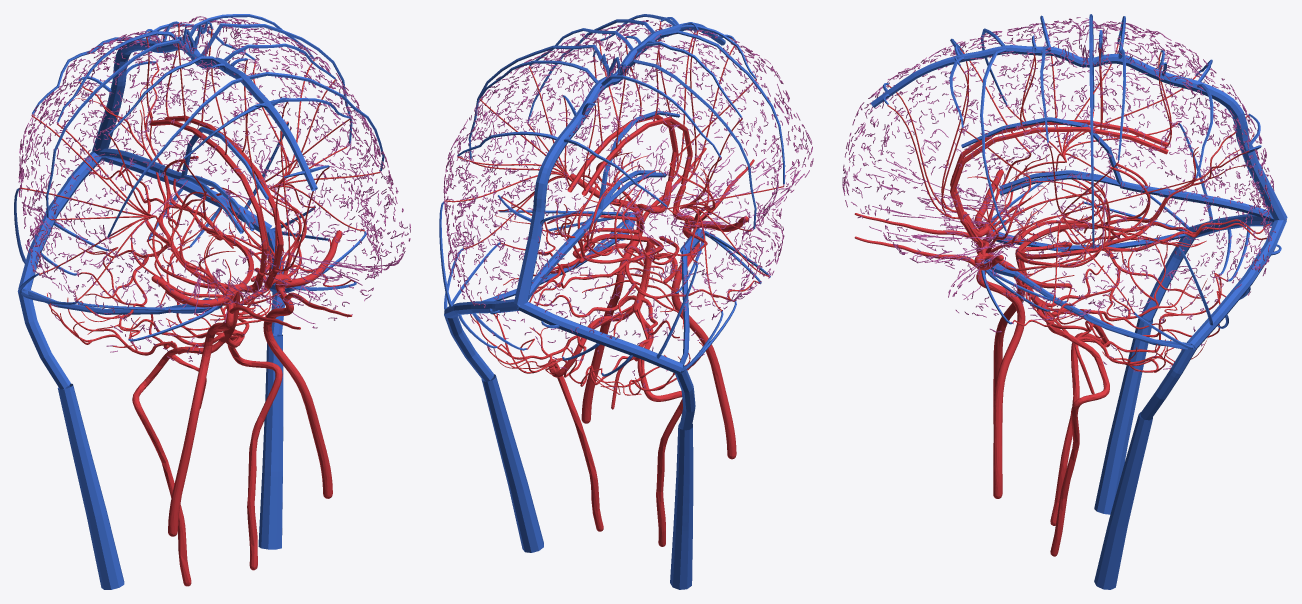
File: bodyparts3d-brain-vessels.glb
3 renders of one model, left to right at view 1: azimuth 30°, elevation 25°; view 2: azimuth 150°, elevation 25°; view 3: azimuth 270°, elevation 25°, orthographic. The views are drawn at different scales.
Visible parts, largest first — view 1: caps, cortveins, ijv, br_mca, sss, ts, ica_R, br_aca, ica_L, va_L, va_R, sig (+16 smaller); view 2: caps, cortveins, ijv, sss, br_mca, ts, br_aca, ica_R, va_L, sig, va_R, pca_R (+16 smaller); view 3: caps, cortveins, ijv, sss, br_mca, ts, ica_L, sig, br_aca, va_L, pca_L, pet (+15 smaller).
Boxes of the visible parts, box(x1,y1,x2,y2) form: caps: box(18, 16, 410, 361); cortveins: box(14, 14, 384, 341); ijv: box(57, 334, 283, 589); br_mca: box(19, 60, 380, 308); sss: box(92, 38, 317, 191); ts: box(18, 151, 271, 289); ica_R: box(168, 296, 233, 536); br_aca: box(146, 24, 329, 330); ica_L: box(263, 282, 332, 498); va_L: box(226, 335, 282, 570); va_R: box(132, 340, 223, 586); sig: box(18, 229, 284, 389); caps: box(443, 20, 813, 389); cortveins: box(439, 14, 785, 376); ijv: box(481, 374, 693, 589); sss: box(514, 22, 725, 305); br_mca: box(445, 41, 783, 311); ts: box(444, 299, 682, 373); br_aca: box(563, 21, 736, 267); ica_R: box(671, 222, 736, 459); va_L: box(548, 304, 633, 531); sig: box(444, 314, 695, 430); va_R: box(636, 310, 683, 546); pca_R: box(540, 186, 752, 336); caps: box(842, 17, 1275, 371); cortveins: box(883, 14, 1281, 349); ijv: box(1094, 316, 1152, 589); sss: box(871, 45, 1287, 220); br_mca: box(963, 44, 1196, 312); ts: box(1187, 214, 1286, 349); ica_L: box(976, 253, 1025, 498); sig: box(1140, 231, 1196, 420); br_aca: box(887, 38, 1171, 295); va_L: box(1042, 311, 1109, 556); pca_L: box(1014, 151, 1266, 326); pet: box(1014, 233, 1191, 346).
Bounding box in the file's own units: 0.1405 × 0.2387 × 0.1863.
